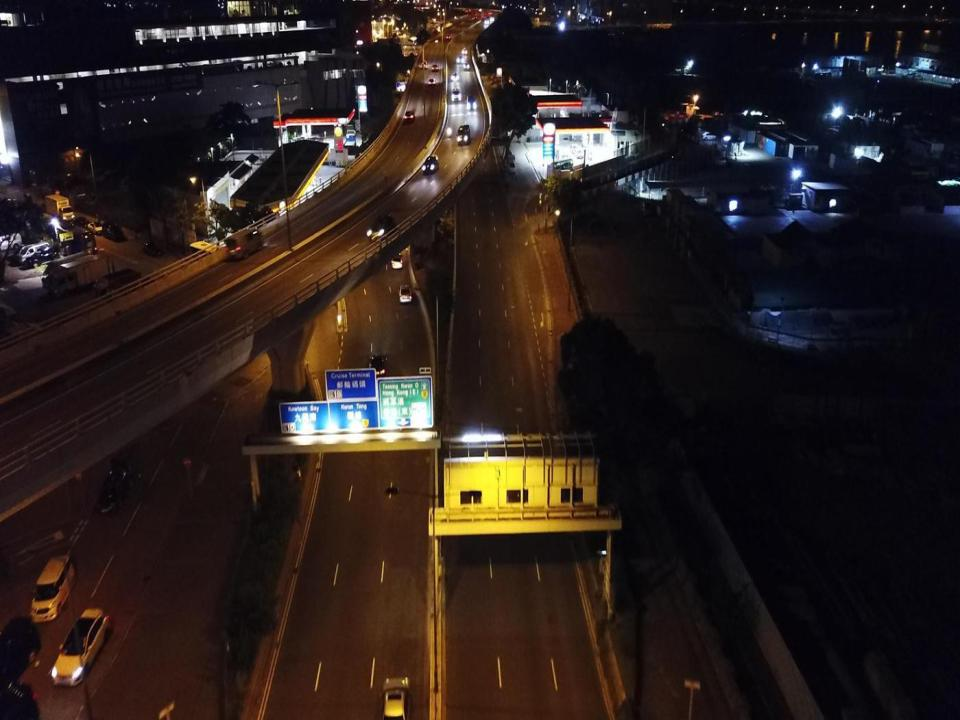bus: (188, 241, 249, 284), (43, 214, 97, 258), (550, 158, 574, 175)
car: (50, 605, 110, 683), (97, 451, 132, 522), (380, 674, 409, 719), (368, 213, 396, 242), (27, 246, 57, 266), (370, 354, 386, 378), (422, 154, 439, 176), (143, 242, 162, 257), (391, 245, 402, 270), (87, 221, 104, 235), (640, 202, 653, 217), (75, 216, 90, 229), (715, 156, 731, 168), (466, 94, 478, 110), (404, 110, 415, 122), (451, 88, 461, 101), (700, 132, 716, 140), (570, 144, 579, 154), (576, 149, 584, 160), (431, 63, 439, 71), (450, 72, 458, 80), (456, 55, 464, 63), (428, 78, 436, 85), (463, 62, 470, 70), (463, 46, 467, 53), (446, 34, 450, 38)
truck: (50, 255, 110, 296), (40, 254, 94, 292), (107, 276, 155, 312), (94, 268, 138, 302), (44, 195, 74, 223), (506, 149, 516, 174)
van: (31, 555, 75, 621), (2, 617, 41, 685), (225, 230, 263, 260), (16, 241, 50, 262), (102, 221, 124, 242), (0, 231, 22, 250), (398, 283, 412, 305), (456, 124, 470, 146), (422, 60, 427, 68)
